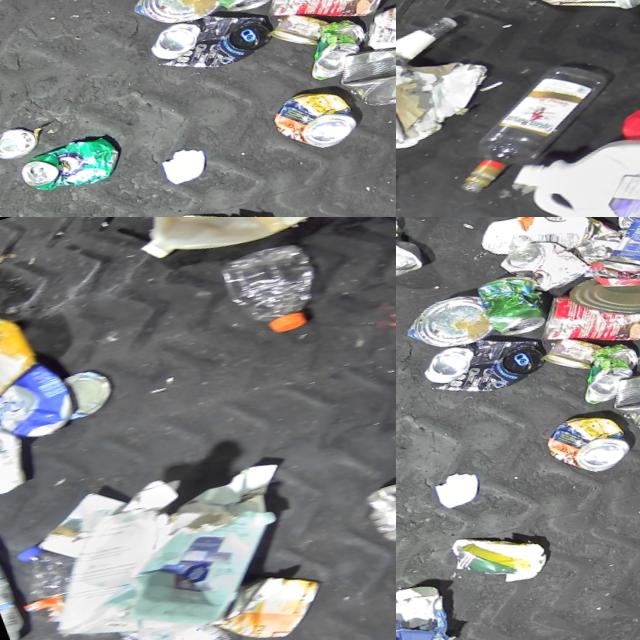can: (186, 554, 337, 640), (407, 322, 547, 406), (134, 0, 273, 81), (522, 270, 640, 362), (2, 130, 120, 200), (257, 81, 355, 157), (530, 405, 628, 481), (489, 230, 592, 300), (396, 288, 491, 357), (321, 29, 396, 115), (558, 253, 640, 330), (468, 270, 550, 341), (287, 15, 372, 81), (249, 0, 391, 38), (559, 339, 640, 405), (594, 353, 640, 439), (586, 217, 640, 287), (531, 328, 603, 378), (258, 5, 330, 54), (117, 0, 218, 33), (532, 0, 640, 29), (348, 0, 396, 64), (396, 223, 422, 286), (194, 0, 277, 17), (0, 122, 33, 161)
milk_jug: (495, 114, 640, 217), (112, 217, 364, 273)
non_white_jug: (606, 87, 640, 185)
plastic_bottle: (203, 227, 346, 345), (0, 527, 85, 613), (98, 602, 232, 640)
